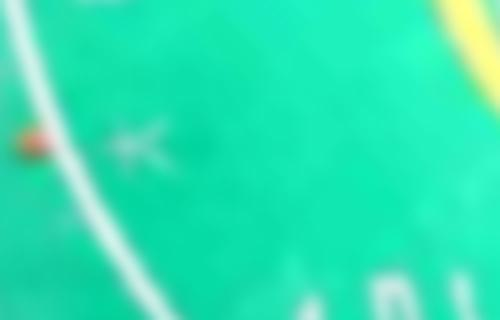Apron: (427, 1, 500, 124)
